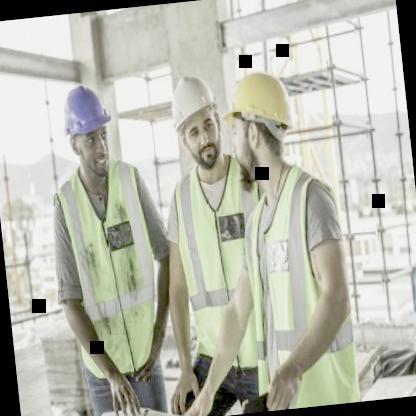helmet: (221, 56, 302, 180), (168, 61, 238, 181), (56, 76, 120, 182)
